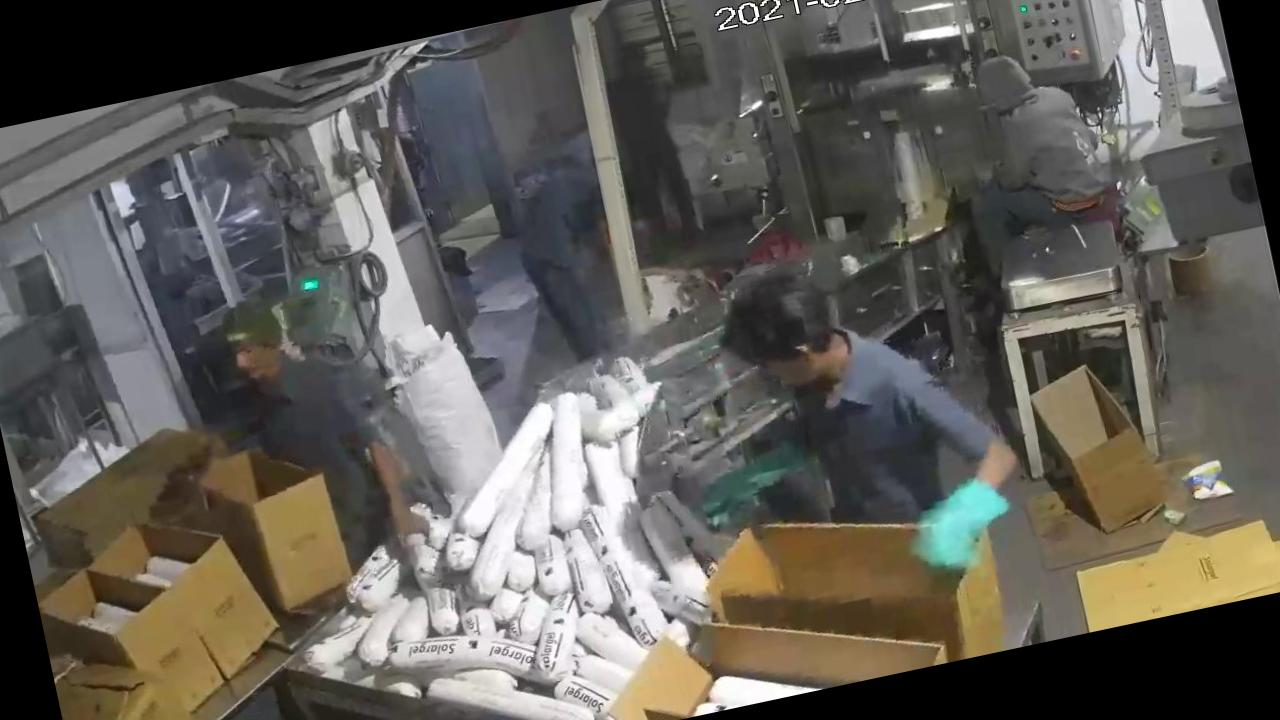Gloves: (664, 423, 826, 542), (888, 465, 1037, 590)
No-gloves: (347, 417, 439, 572)
